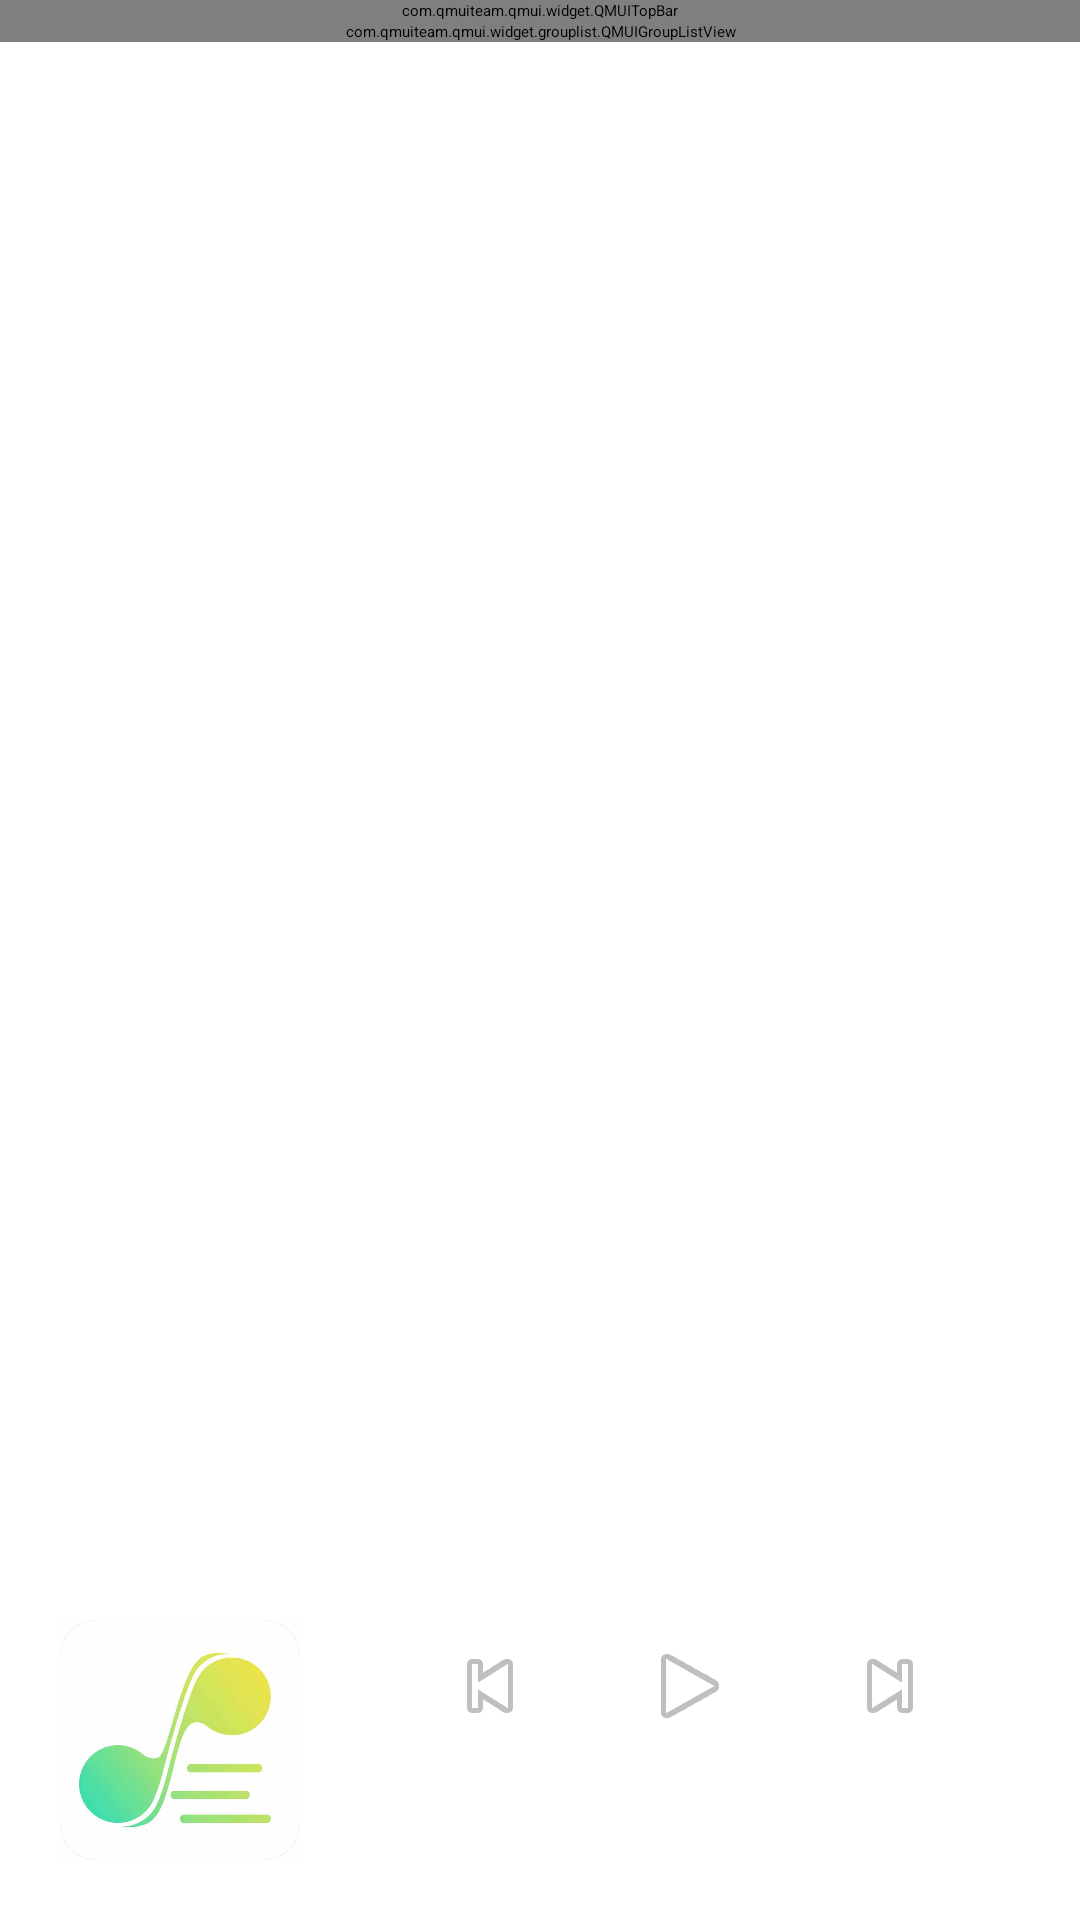

Screen size 1080x1920. Icon name, then its center in pixels as point (x, y):
next: point (890, 1686)
play: point (690, 1686)
previous: point (490, 1686)
